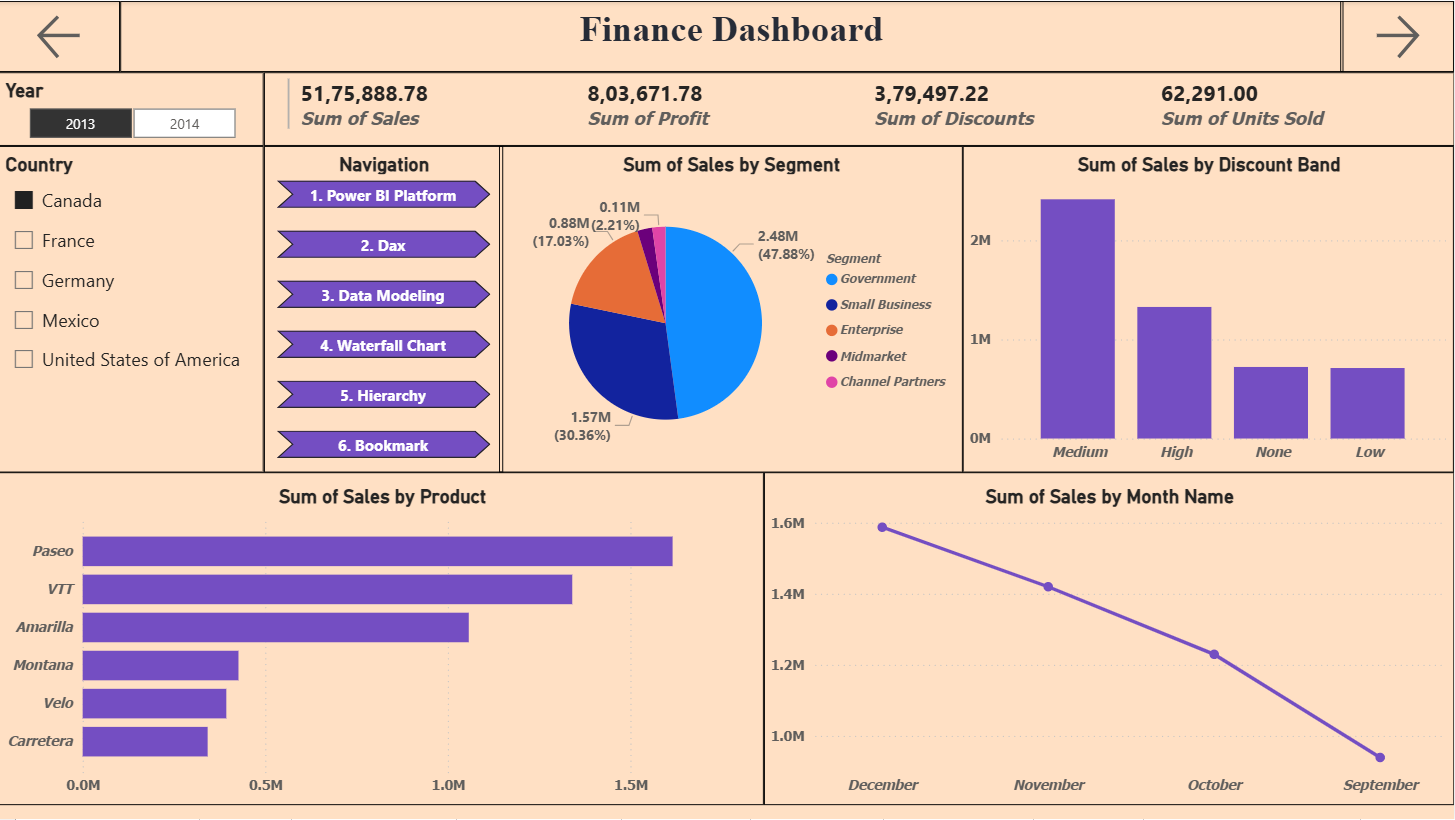

The page's visual inventory and layout, read from the dashboard file:
{"tool":"powerbi","page":{"name":"Financial Dashboard","canvas":[1280,720],"ordinal":6},"visuals":[{"type":"textbox","box":[106.2,0,1076.1,62.7],"z":0},{"type":"pieChart","fields":{"Y":["Sum(financials. Sales)"],"Category":["financials.Segment"]},"box":[440.4,127.9,407.8,287.1],"z":1000},{"type":"clusteredColumnChart","fields":{"Y":["Sum(financials. Sales)"],"Category":["financials.Discount Band"]},"box":[848.1,127.9,431.9,287.1],"z":2000},{"type":"clusteredBarChart","fields":{"Y":["Sum(financials. Sales)"],"Category":["financials.Product"]},"box":[0,415,673.2,293.2],"z":3000},{"type":"lineChart","fields":{"Y":["Sum(financials. Sales)"],"Category":["financials.Month Name"]},"box":[673.2,415,606.8,293.2],"z":4000},{"type":"multiRowCard","fields":{"Values":["Sum(financials. Sales)","Sum(financials.Profit)","Sum(financials.Discounts)","Sum(financials.Units Sold)"]},"box":[232.8,62.7,1047.2,65.1],"z":5000},{"type":"slicer","title":"Year","fields":{"Values":["financials.Date.Variation.Date Hierarchy.Year"]},"box":[0,62.7,232.8,65.1],"z":6000},{"type":"slicer","title":"Country","fields":{"Values":["financials.Country"]},"box":[0,127.9,232.8,287.1],"z":7000},{"type":"pageNavigator","title":"Navigation","box":[232.8,127.9,210,287.1],"z":8000},{"type":"actionButton","box":[0,0,106.2,62.7],"z":9000},{"type":"actionButton","box":[1179.9,0,100.1,62.7],"z":10000}]}

Visuals, with their boxes in screenshot pixels (x1, y1, x2, y2), scaled from the page's 1280x720 canvas onto the 1455x820 screenshot:
textbox: bbox=(121, 0, 1344, 71)
pieChart - Sum(financials. Sales) x financials.Segment: bbox=(501, 146, 964, 473)
clusteredColumnChart - Sum(financials. Sales) x financials.Discount Band: bbox=(964, 146, 1454, 473)
clusteredBarChart - Sum(financials. Sales) x financials.Product: bbox=(0, 473, 765, 807)
lineChart - Sum(financials. Sales) x financials.Month Name: bbox=(765, 473, 1454, 807)
multiRowCard - Sum(financials. Sales) x Sum(financials.Profit): bbox=(265, 71, 1454, 146)
"Year" slicer: bbox=(0, 71, 265, 146)
"Country" slicer: bbox=(0, 146, 265, 473)
"Navigation" pageNavigator: bbox=(265, 146, 503, 473)
actionButton: bbox=(0, 0, 121, 71)
actionButton: bbox=(1341, 0, 1454, 71)
